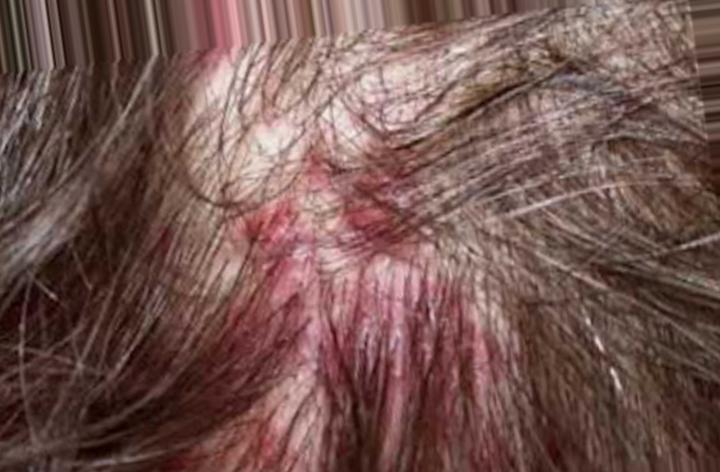Folliculitis: (192, 124, 468, 370)
